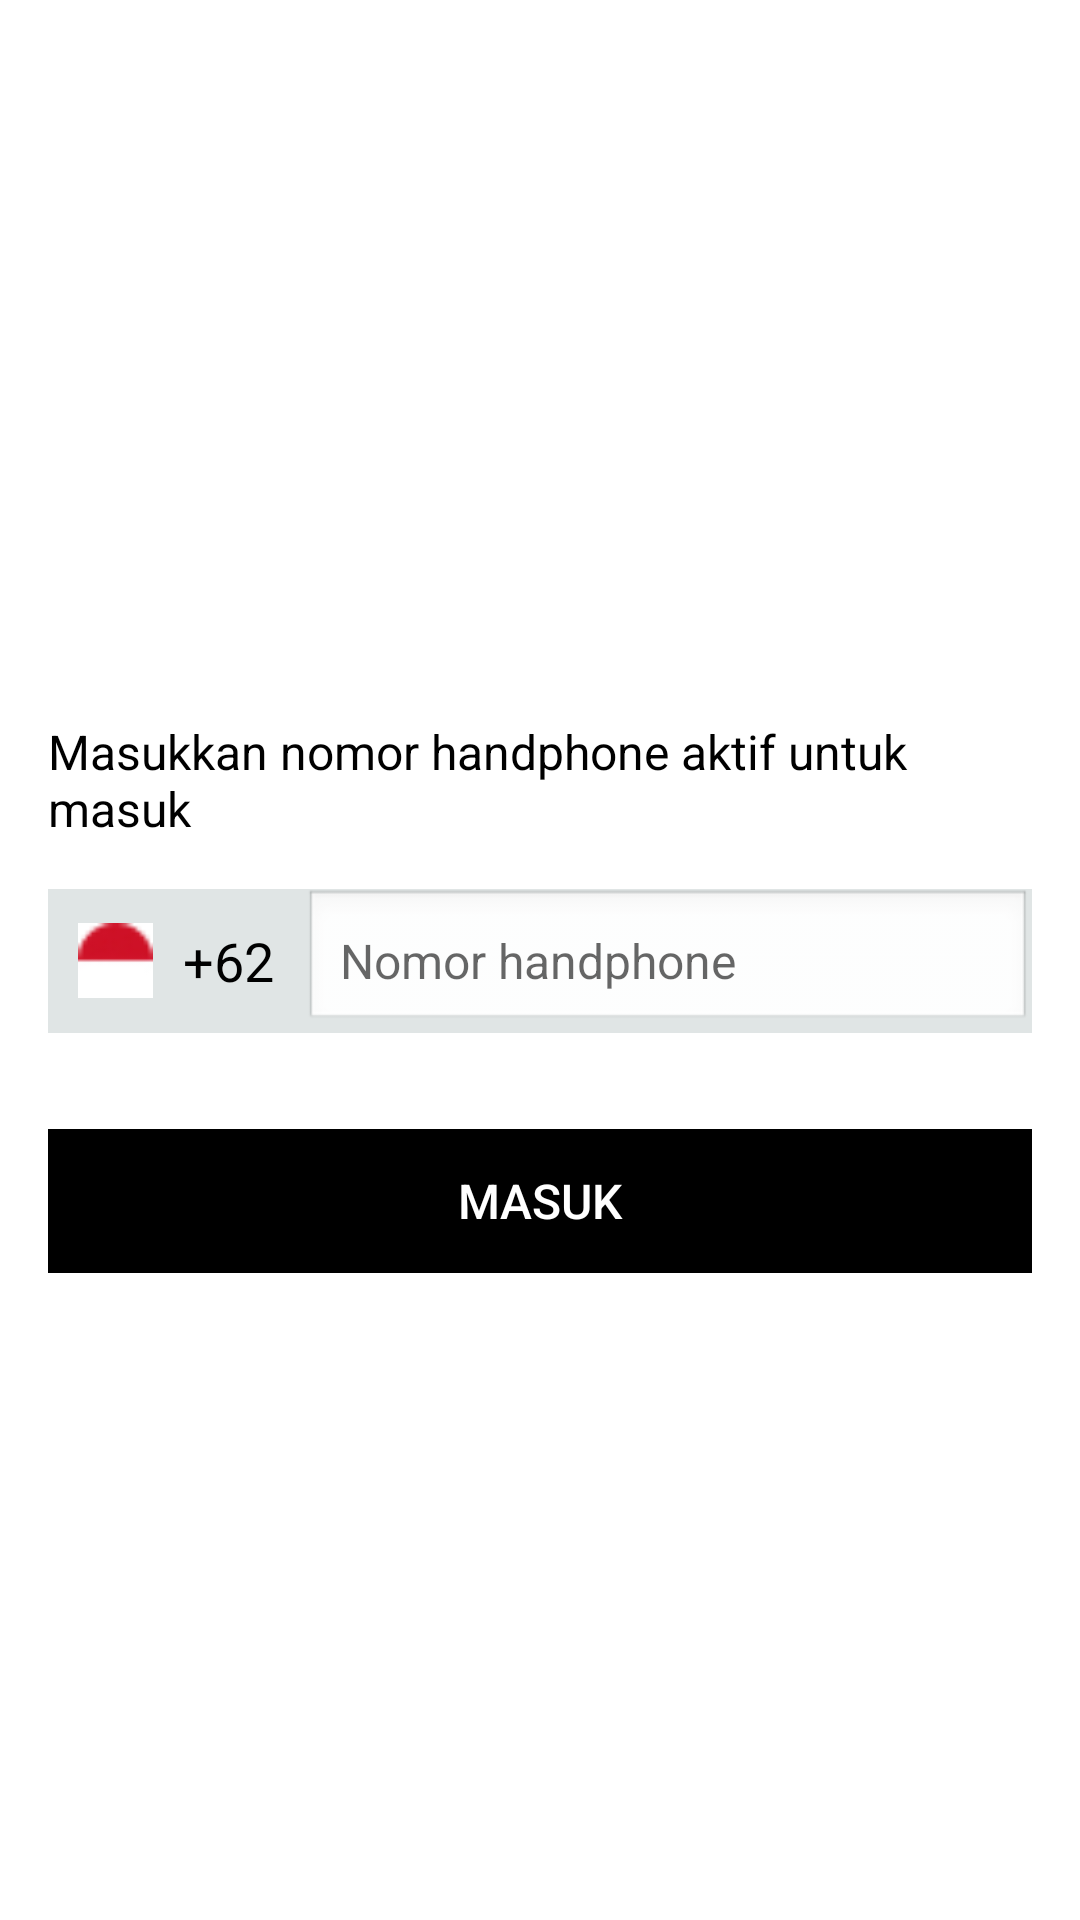

Point at icon controls on the screen. Image size 1080x1920, points as point (x, y).
flag: point (115, 960)
